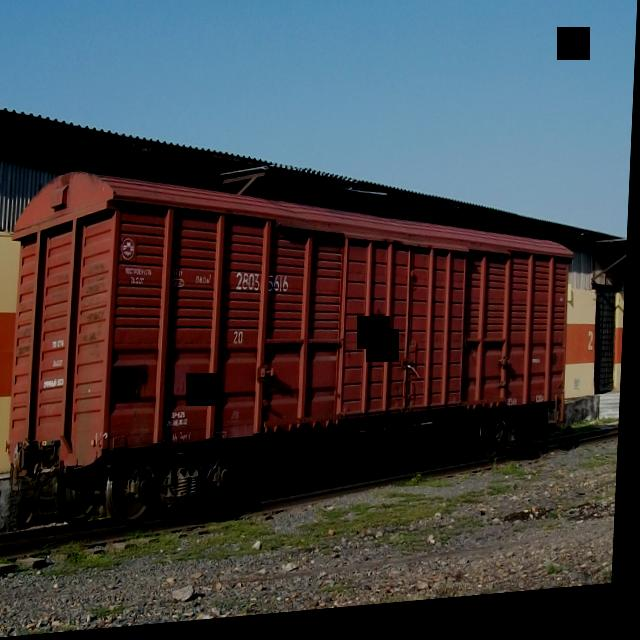boxcar: (2, 134, 586, 545)
